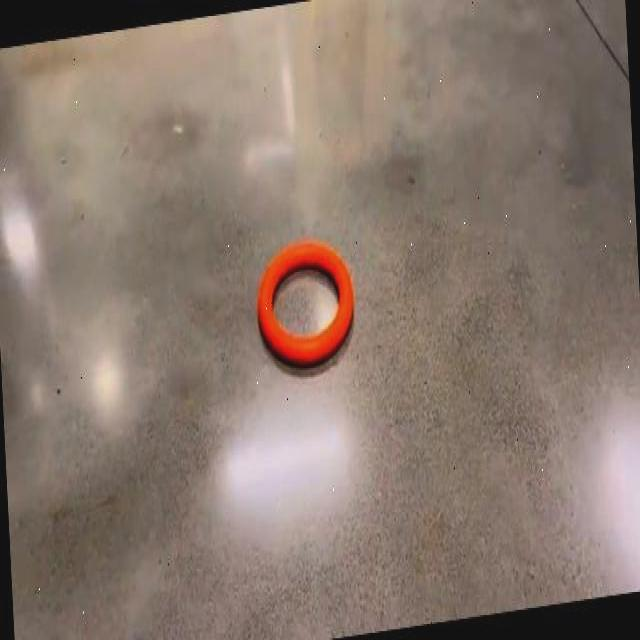note: (257, 240, 352, 366)
